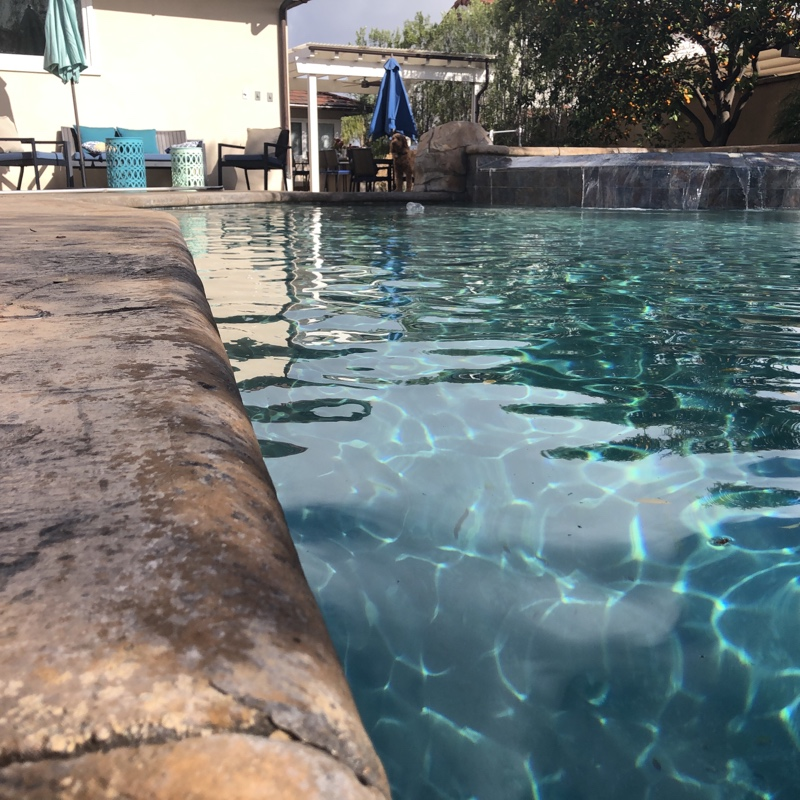Plastic Bottle: (404, 195, 425, 218)
